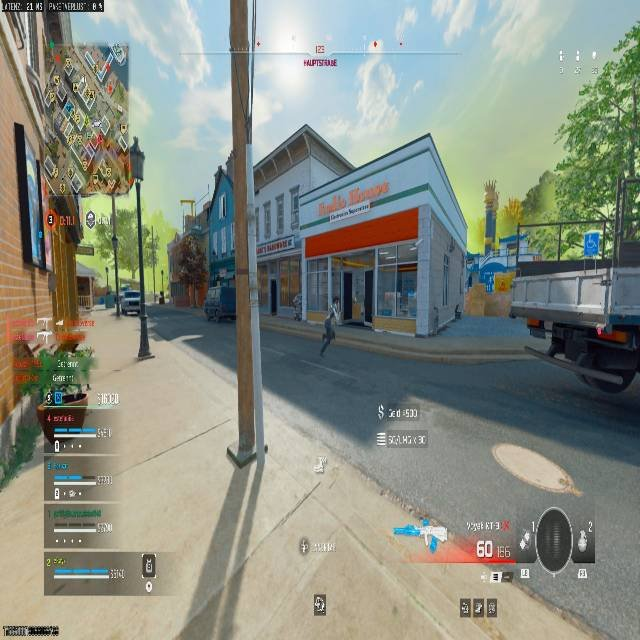head: (368, 38, 382, 54)
player: (353, 39, 399, 132), (172, 235, 208, 312), (319, 296, 340, 356), (156, 291, 165, 304)
